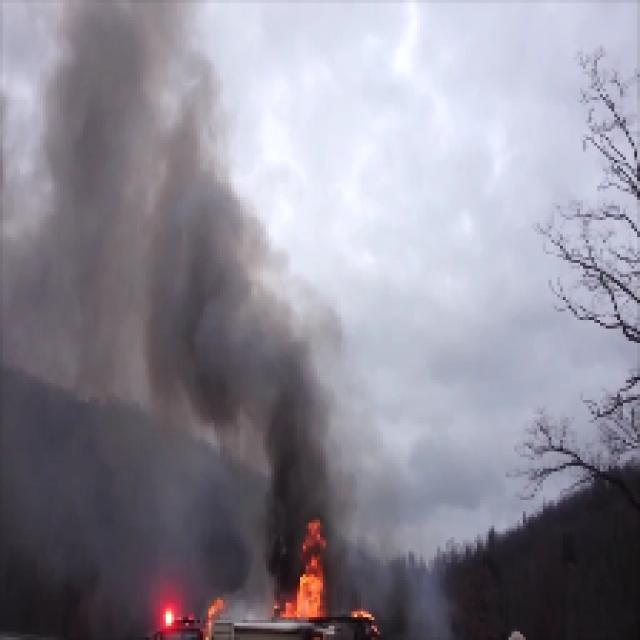smoke: (17, 4, 192, 533), (201, 176, 352, 506)
